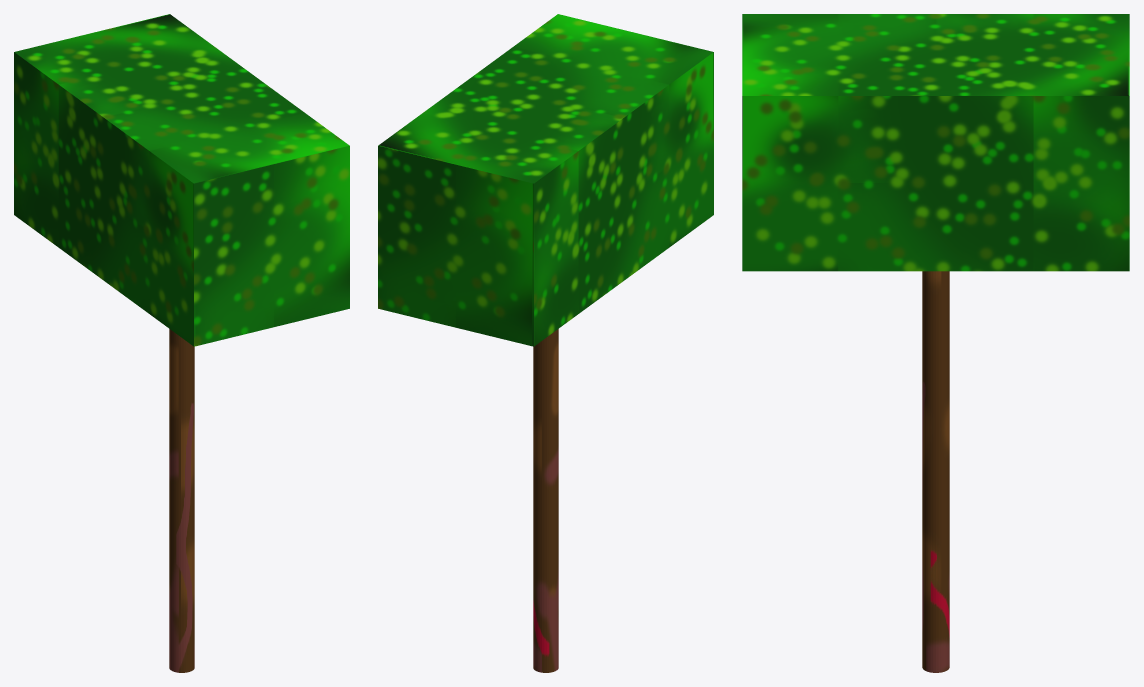
File: tree.gltf
3 renders of one model, left to right at view 1: azimuth 30°, elevation 25°; view 2: azimuth 150°, elevation 25°; view 3: azimuth 270°, elevation 25°, orthographic. The views are drawn at different scales.
Parts seen in each view (by area): view 1: Cube, Cylinder; view 2: Cube, Cylinder; view 3: Cube, Cylinder.
Boxes of the visible parts, left/top/right/bottom form: Cube: left=14, top=14, right=349, bottom=346; Cylinder: left=169, top=329, right=194, bottom=672; Cube: left=378, top=14, right=713, bottom=346; Cylinder: left=533, top=329, right=558, bottom=672; Cube: left=742, top=14, right=1129, bottom=271; Cylinder: left=922, top=271, right=949, bottom=672.
Bounding box in the file's own units: 4.24 × 14.77 × 8.47.
2 materials, 2 textured.
